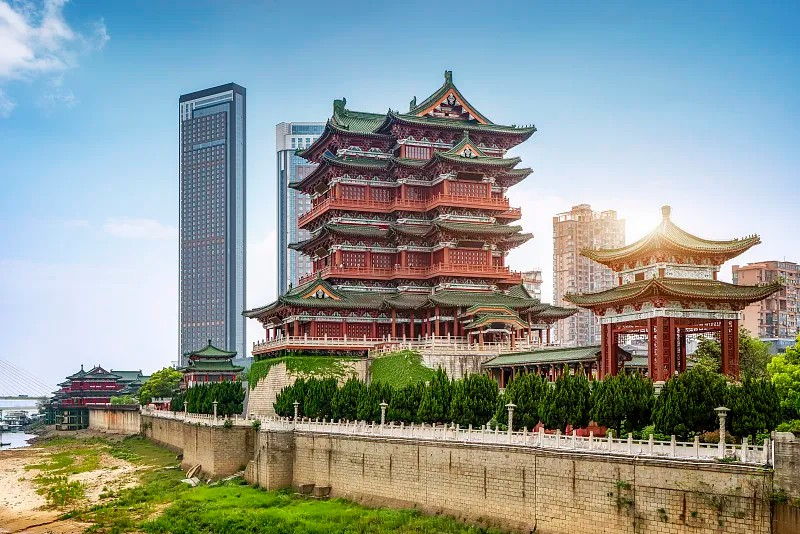Teng: (242, 71, 580, 351)
